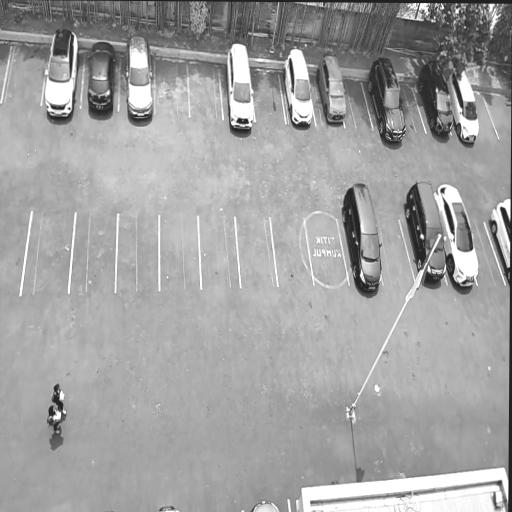Car: (401, 178, 450, 294), (433, 180, 481, 294), (339, 181, 385, 298), (362, 50, 409, 146), (42, 25, 81, 121), (413, 56, 456, 143), (224, 42, 258, 138), (280, 46, 317, 131), (123, 31, 156, 125), (445, 65, 480, 148), (83, 35, 118, 117), (312, 54, 348, 130), (488, 192, 511, 291), (247, 500, 284, 512)
Space Available: (21, 209, 74, 293), (69, 214, 116, 294), (115, 215, 158, 293), (304, 216, 349, 285), (3, 40, 48, 108), (199, 214, 240, 287), (271, 213, 313, 284), (161, 213, 200, 288), (236, 215, 277, 286), (0, 204, 30, 296), (375, 215, 415, 282), (471, 220, 507, 284), (188, 61, 223, 120), (251, 67, 286, 123), (156, 55, 189, 114), (341, 75, 371, 127), (399, 80, 426, 134), (473, 89, 501, 140), (0, 38, 11, 102)
